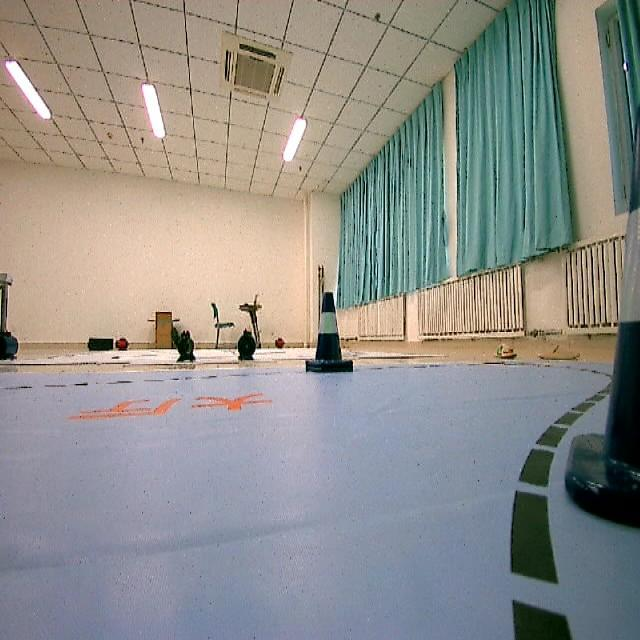obstacle: (308, 294, 352, 379)
